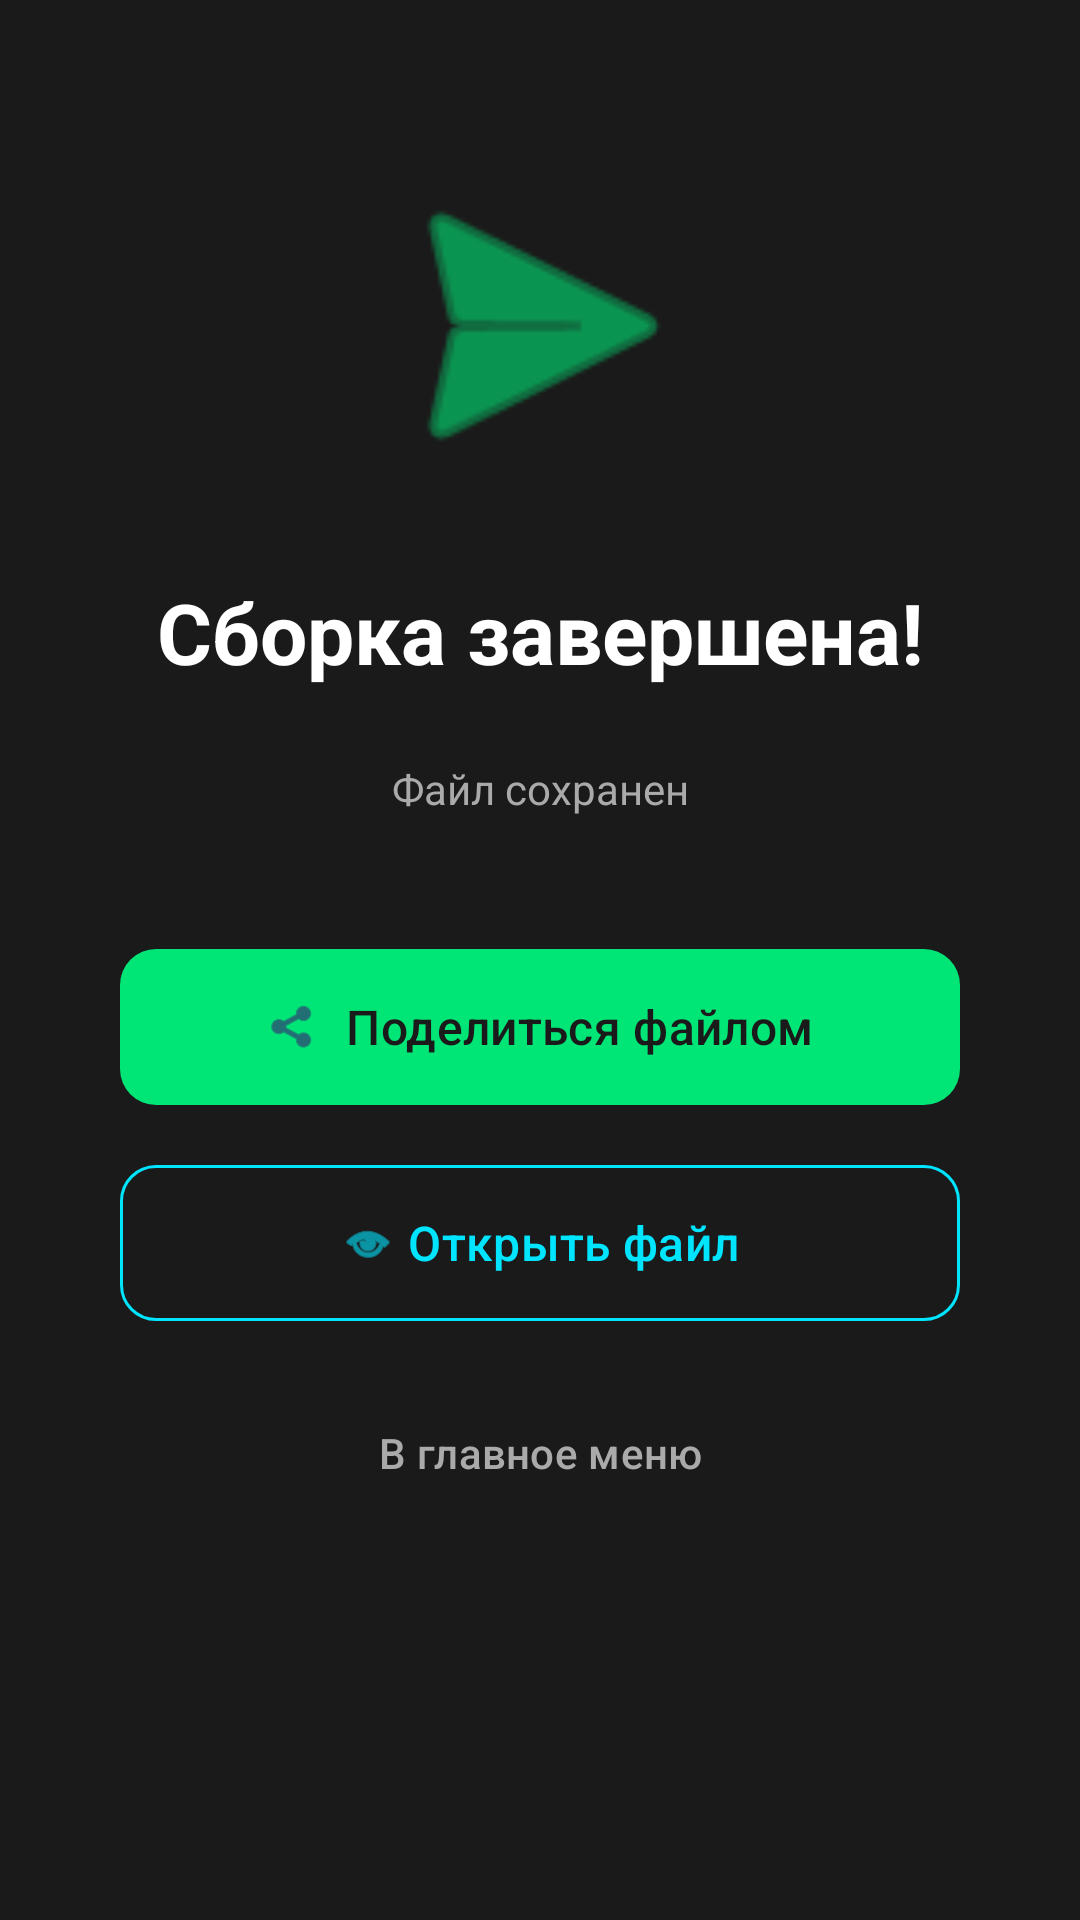

Locate icon controls on the screen. Image size 1080x1920, boxes as (x1, y1, x2, y2).
send: (428, 212, 658, 440)
